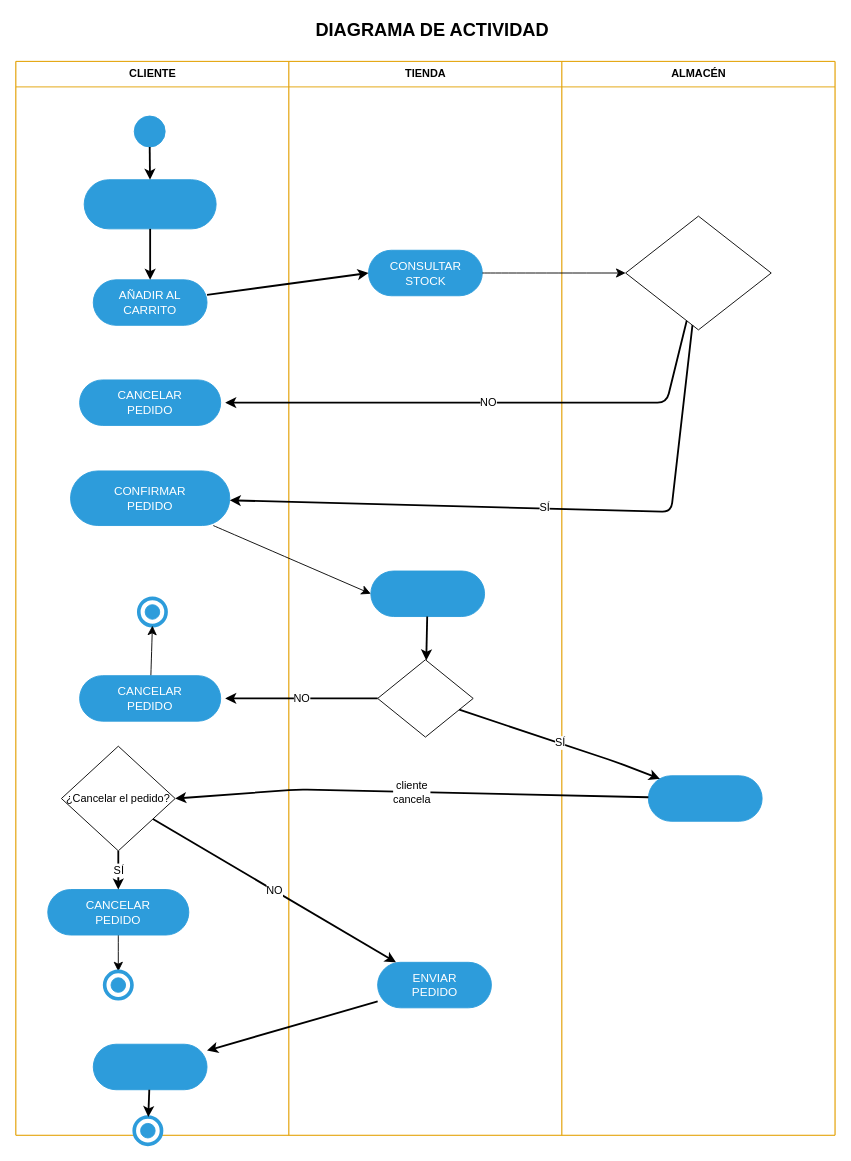
Image size: 851x1161. Some labels were removed from this diagram. The shapes that lost their labels are listed below. From the top down, each one's centre as x and y in pixels, then its label:
At (149,204): "SELECCIONAR PRODUCTO".
At (698,272): "¿Queda stock?".
At (427,593): "SOLICITAR PAGO".
At (425,698): "¿Pago realizado?".
At (704,798): "PREPARAR PEDIDO".
At (149,1066): "ENTREGAR PEDIDO".
